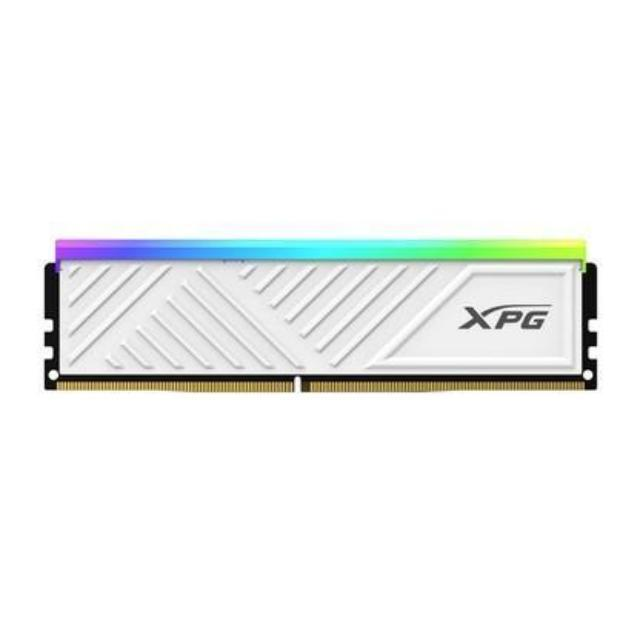RAM: (38, 230, 610, 404)
